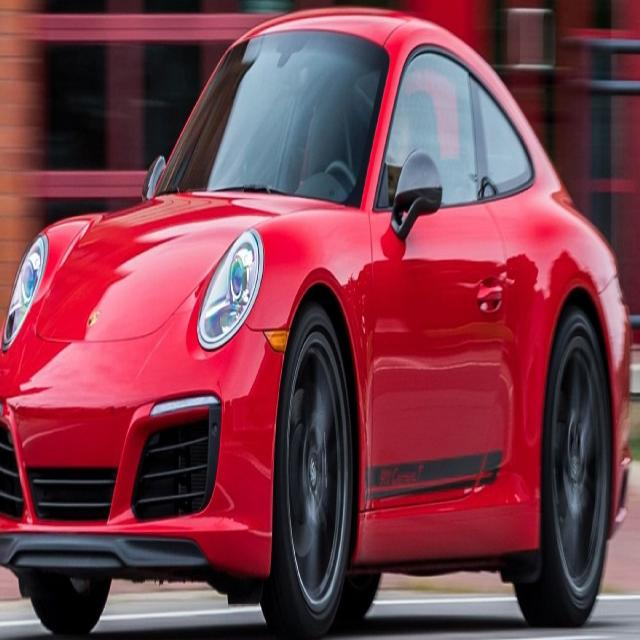red: (5, 14, 637, 616)
